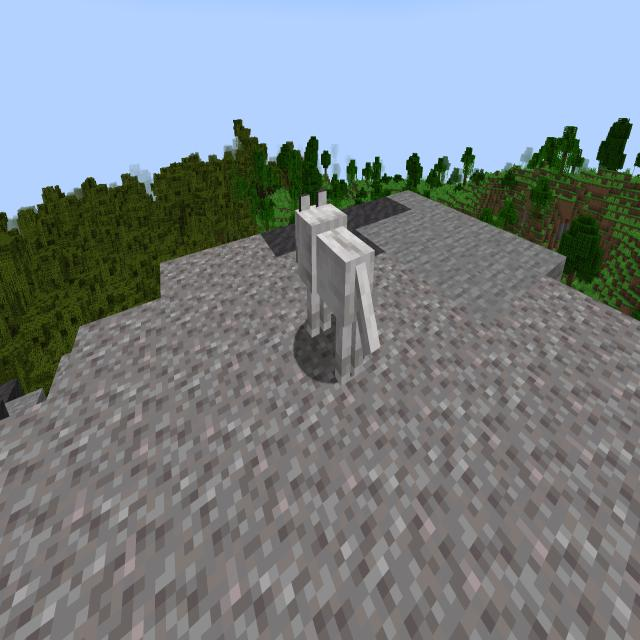Wolf: (286, 179, 386, 407)
